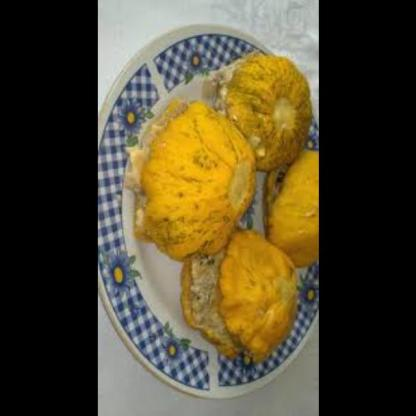squash-patisson: (137, 96, 261, 260), (177, 238, 301, 362), (230, 47, 317, 175), (267, 148, 319, 274)
